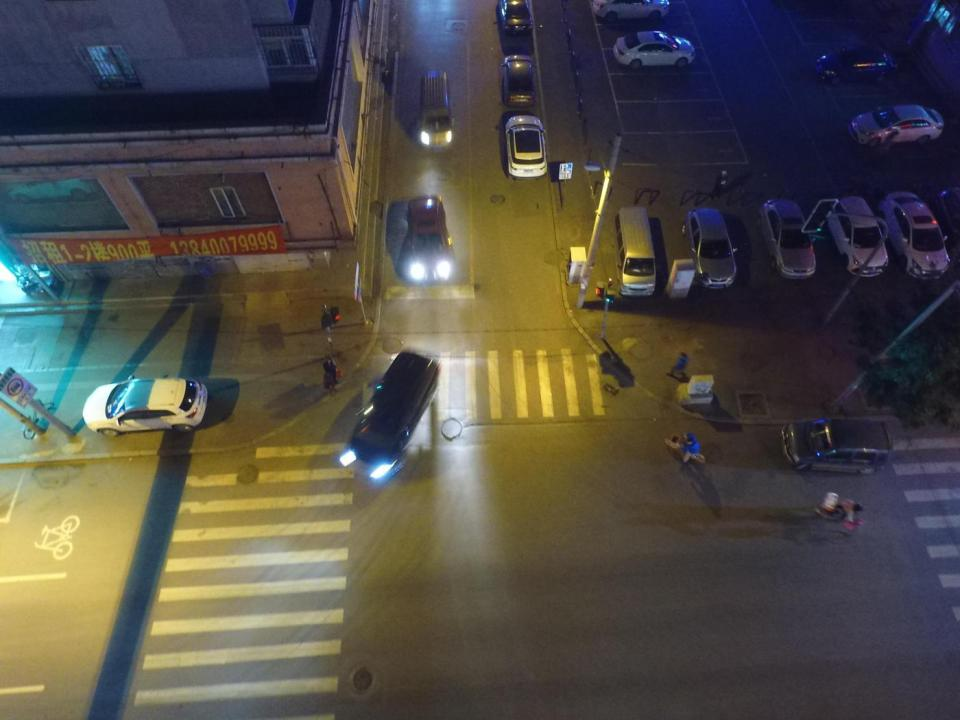car: (350, 353, 439, 468), (82, 374, 209, 435), (779, 416, 896, 475), (877, 192, 950, 284), (823, 196, 889, 277), (682, 209, 738, 292), (758, 199, 815, 280), (851, 102, 944, 148), (404, 194, 452, 282), (816, 48, 898, 88), (612, 31, 696, 70), (505, 116, 546, 180), (592, 0, 670, 25), (934, 187, 960, 260), (504, 55, 536, 108), (496, 0, 534, 34)
van: (611, 206, 658, 298), (418, 70, 454, 152)
